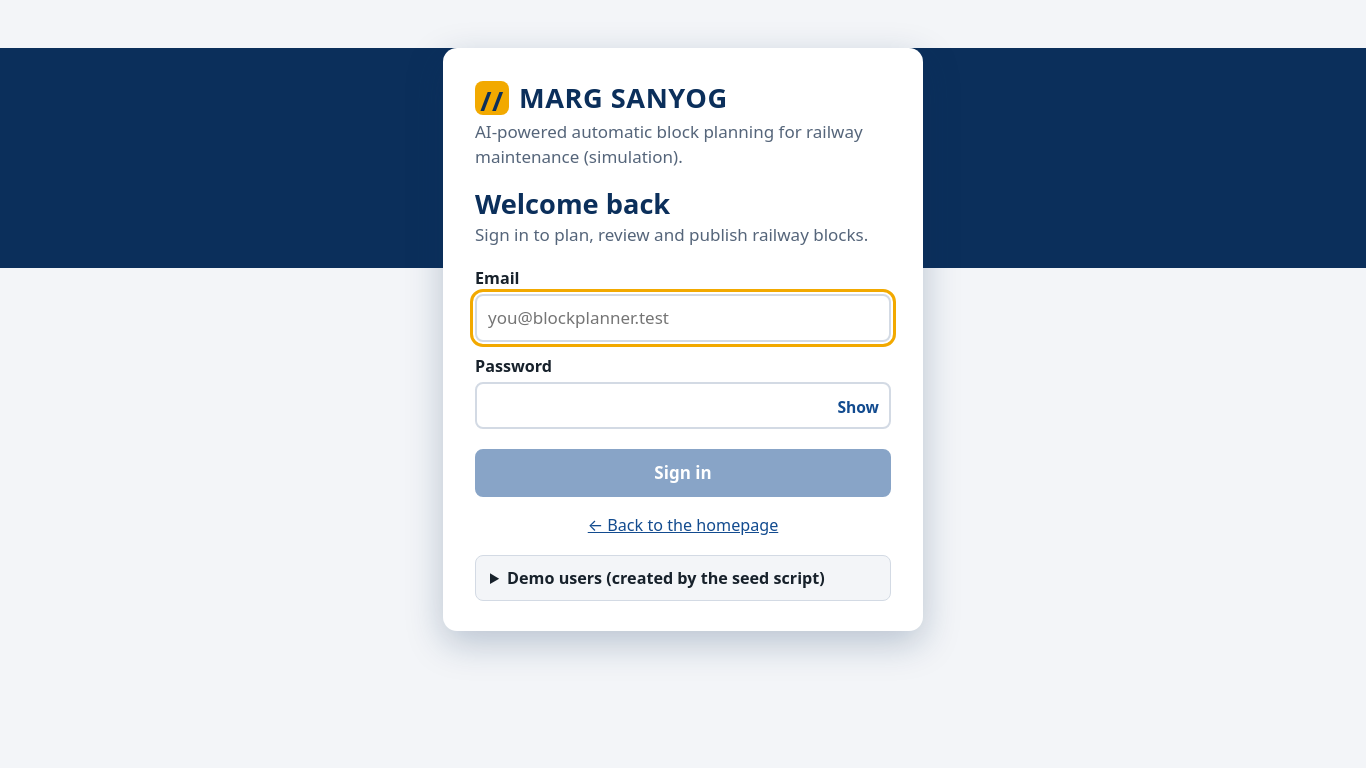
Test: login page › signs in and opens the dashboard
The image size is (1366, 768).
Type "planner@blockplanner.test" into the field labelled "Email" at {"x": 683, "y": 318}, box [475,294,891,342]
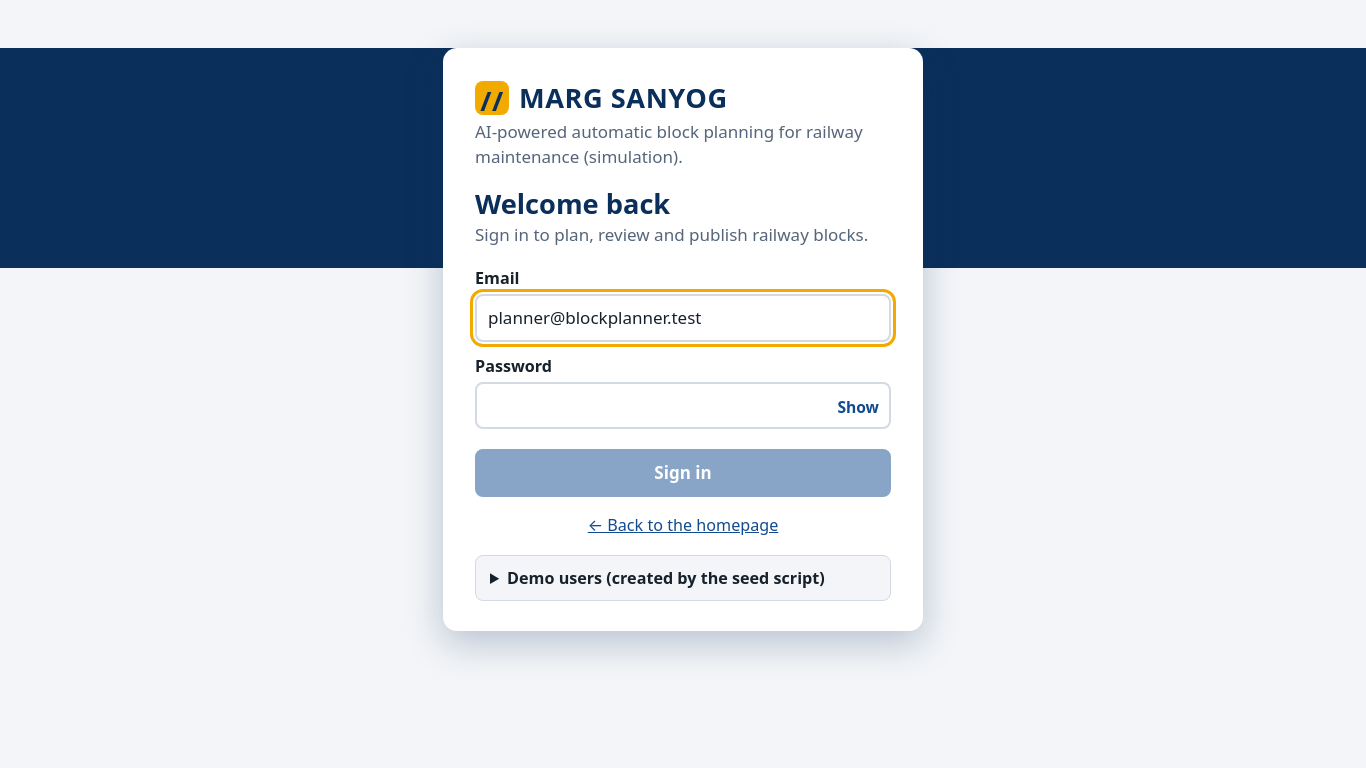
Type "right" into the password field labelled "Password" at {"x": 683, "y": 406}, box [475,382,891,429]
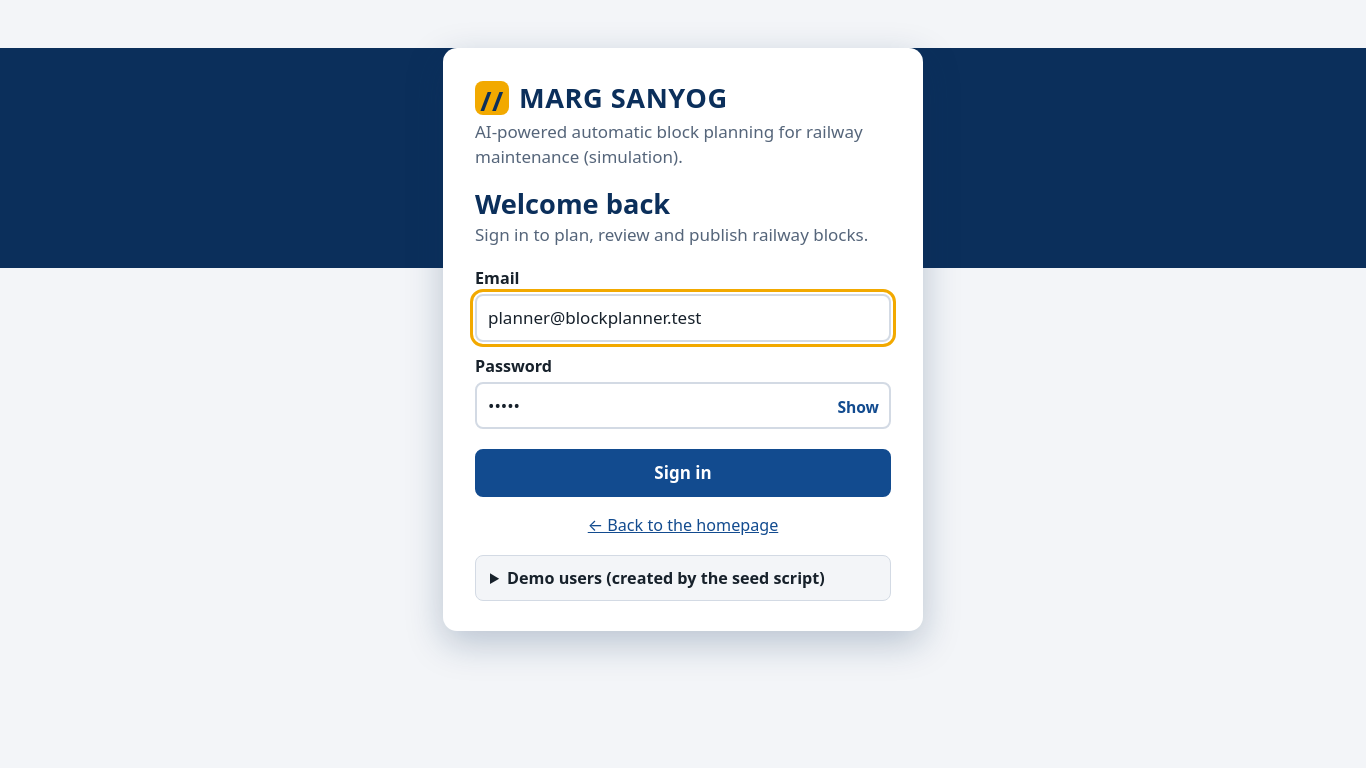
Click the button "Sign in" at {"x": 683, "y": 473}, box [475,449,891,497]
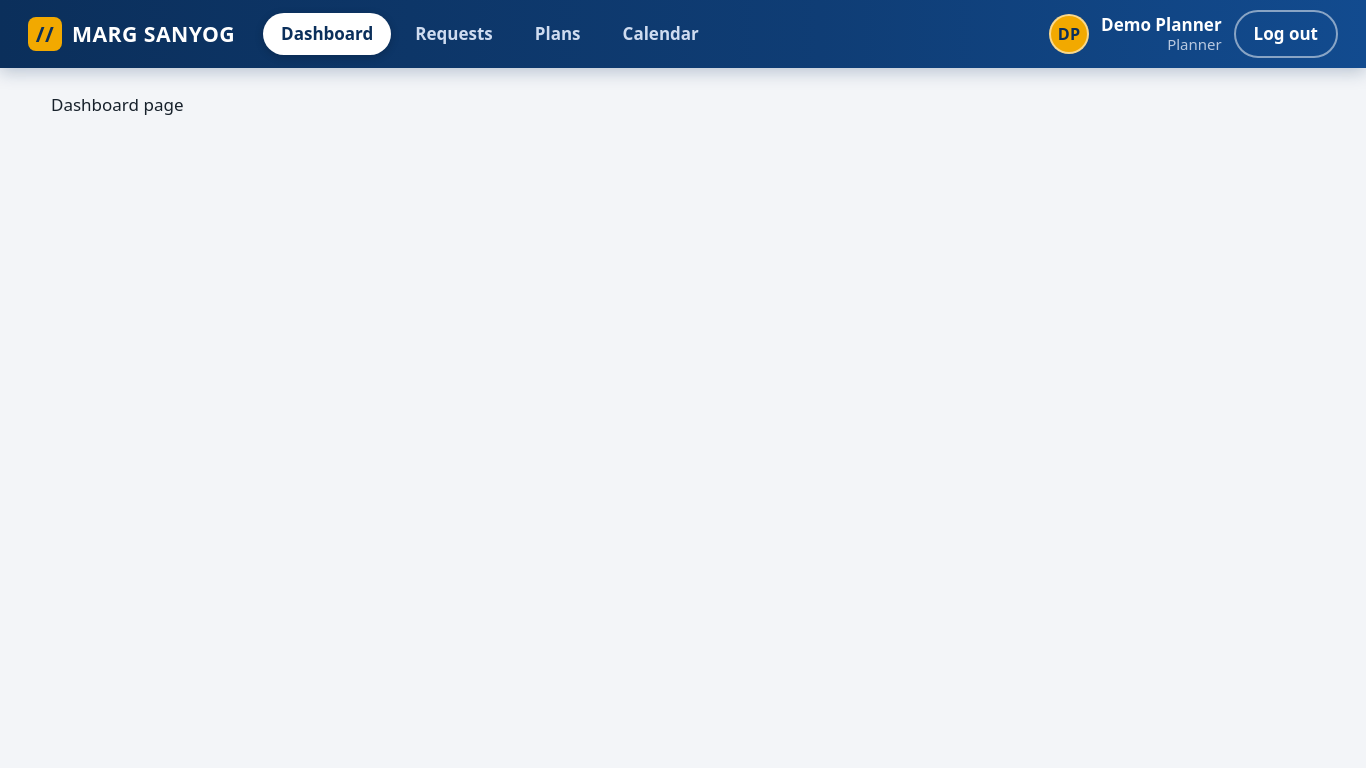
Expected: the text "Dashboard page" is shown, [51,92,184,116]
Expected: the text "Demo Planner" is shown, [1101,14,1222,35]
Expected: the text "Planner" is shown, [1167,34,1222,54]
